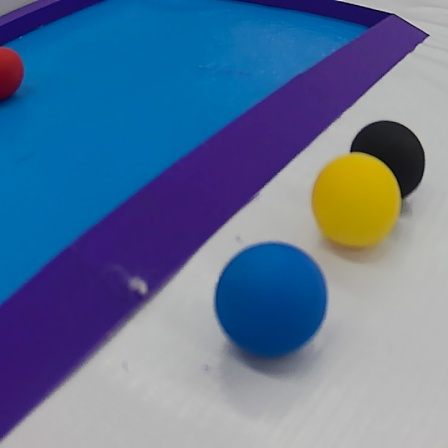black: (344, 118, 430, 206)
blue: (215, 239, 330, 362)
blue_aim: (3, 0, 435, 444)
red: (0, 46, 23, 105)
yellow: (311, 149, 403, 249)
